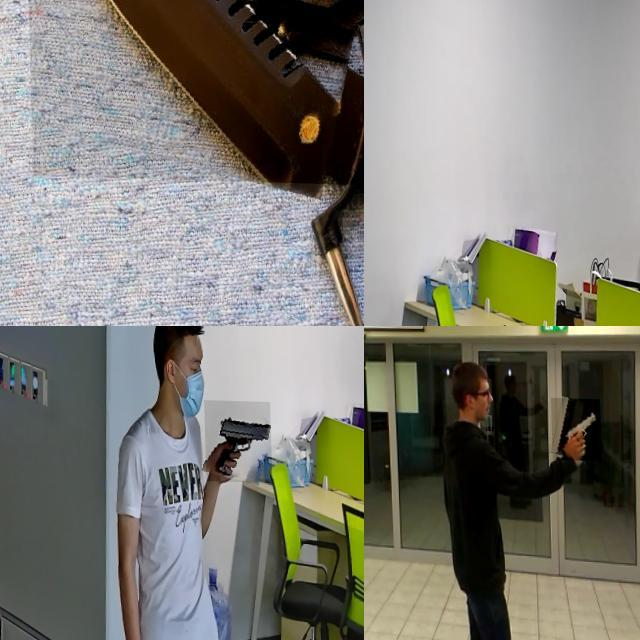-: (23, 0, 364, 183)
gun-knife-thesis - v11 Yolov5 augmented: (202, 398, 270, 480), (550, 395, 600, 458), (364, 132, 391, 232)
